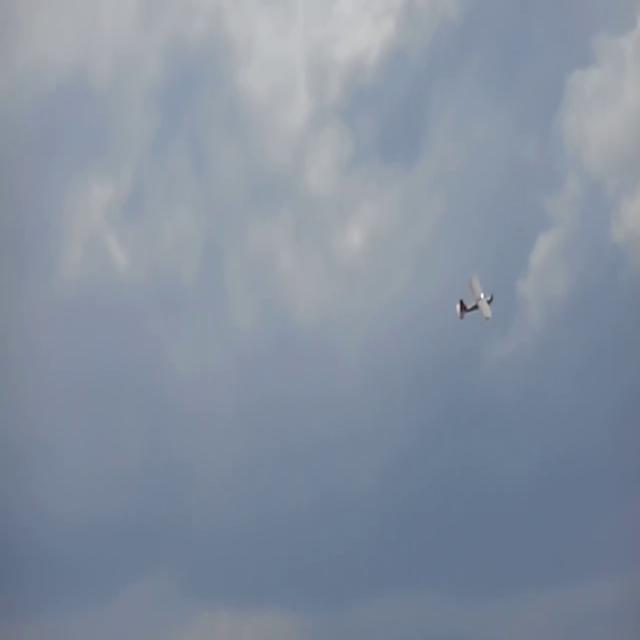iha: (452, 273, 498, 327)
